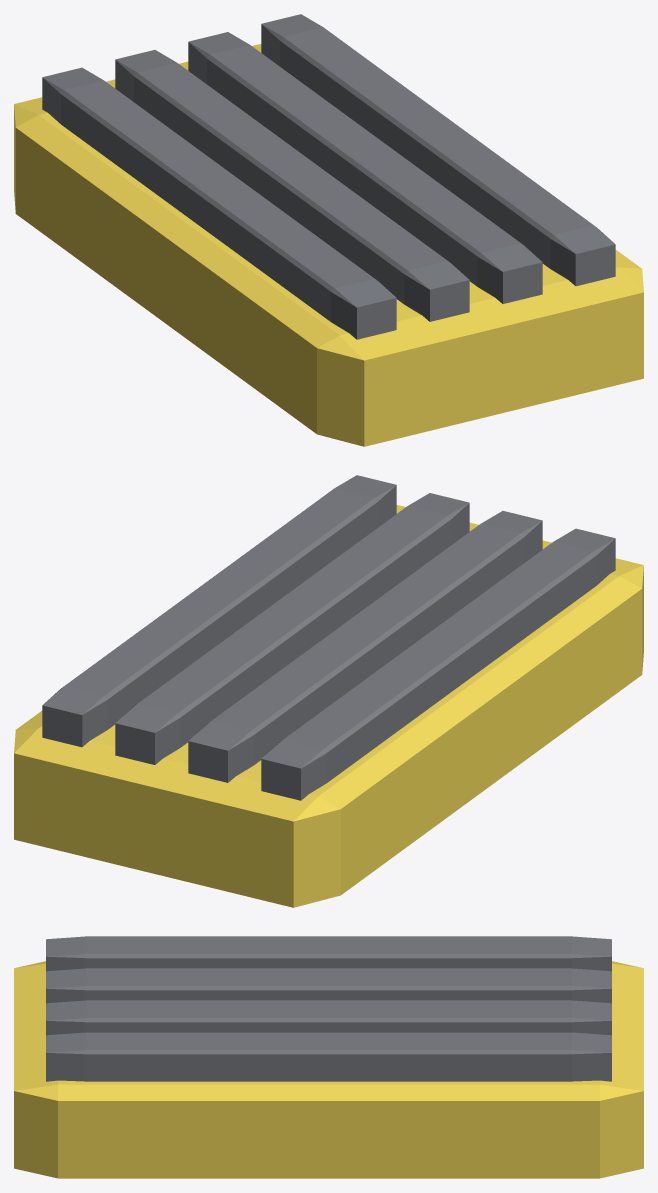
The model's file is b20_roller_boat_launch_cradle.glb.
3 renders of one model, top to bottom at view 1: azimuth 30°, elevation 25°; view 2: azimuth 150°, elevation 25°; view 3: azimuth 270°, elevation 25°, orthographic. The views are drawn at different scales.
Visible parts, largest first — view 1: b20_roller_boat_launch_cradle; view 2: b20_roller_boat_launch_cradle; view 3: b20_roller_boat_launch_cradle.
Part boxes in pixels (left/top/right/bottom): b20_roller_boat_launch_cradle: left=14, top=14, right=643, bottom=446; b20_roller_boat_launch_cradle: left=14, top=475, right=643, bottom=907; b20_roller_boat_launch_cradle: left=14, top=936, right=643, bottom=1178.
Bounding box in the file's own units: 1.5 × 0.59 × 2.8.
